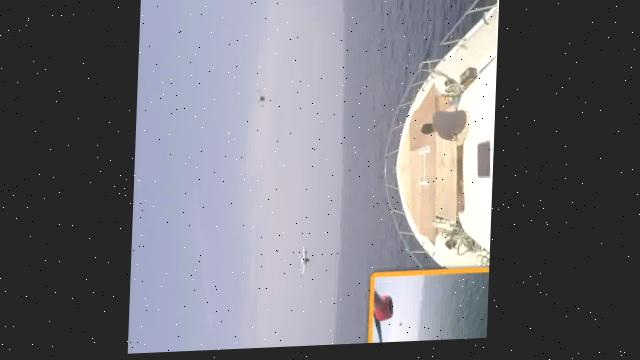drone: (280, 236, 324, 290), (251, 86, 272, 116)
